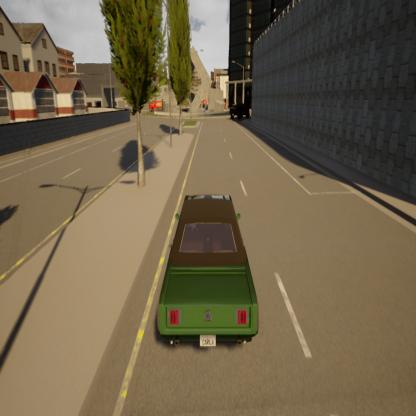Cars: (157, 192, 260, 354), (230, 102, 250, 122), (148, 96, 162, 114)
